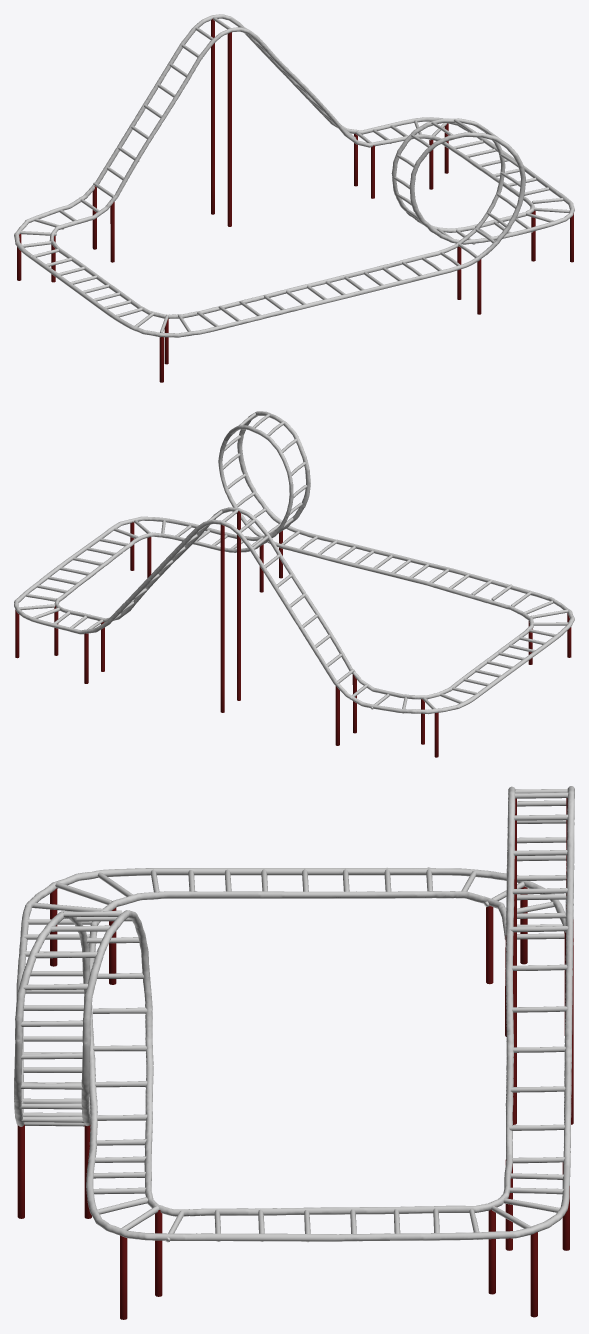
The model's file is Coaster.fbx.
The picture shows the model from 3 angles, top to bottom: view 1: azimuth 30°, elevation 25°; view 2: azimuth 150°, elevation 25°; view 3: azimuth 270°, elevation 25°; orthographic projection. The views are drawn at different scales.
Parts seen in each view (by area): view 1: Coaster, Coaster_stand_1; view 2: Coaster, Coaster_stand_1; view 3: Coaster, Coaster_stand_1.
Part boxes in pixels (x1=…): Coaster: x1=14, y1=14, x2=574, y2=337; Coaster_stand_1: x1=17, y1=18, x2=573, y2=382; Coaster: x1=14, y1=411, x2=574, y2=714; Coaster_stand_1: x1=15, y1=511, x2=571, y2=757; Coaster: x1=14, y1=786, x2=574, y2=1242; Coaster_stand_1: x1=17, y1=798, x2=573, y2=1319.
Size of the model in its own units: 3.25 by 1.37 by 2.04.
